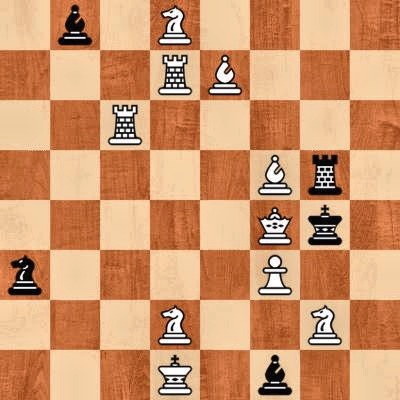black-bishop: (50, 0, 100, 50), (250, 350, 300, 400)
black-king: (300, 200, 350, 250)
black-knight: (0, 250, 50, 300)
black-rook: (300, 150, 350, 200)
white-bishop: (200, 50, 250, 100), (250, 150, 300, 200)
white-king: (150, 350, 200, 400)
white-knight: (150, 0, 200, 50), (150, 300, 200, 350), (300, 300, 350, 350)
white-pawn: (250, 250, 300, 300)
white-queen: (250, 200, 300, 250)
white-rook: (150, 50, 200, 100), (100, 100, 150, 150)
